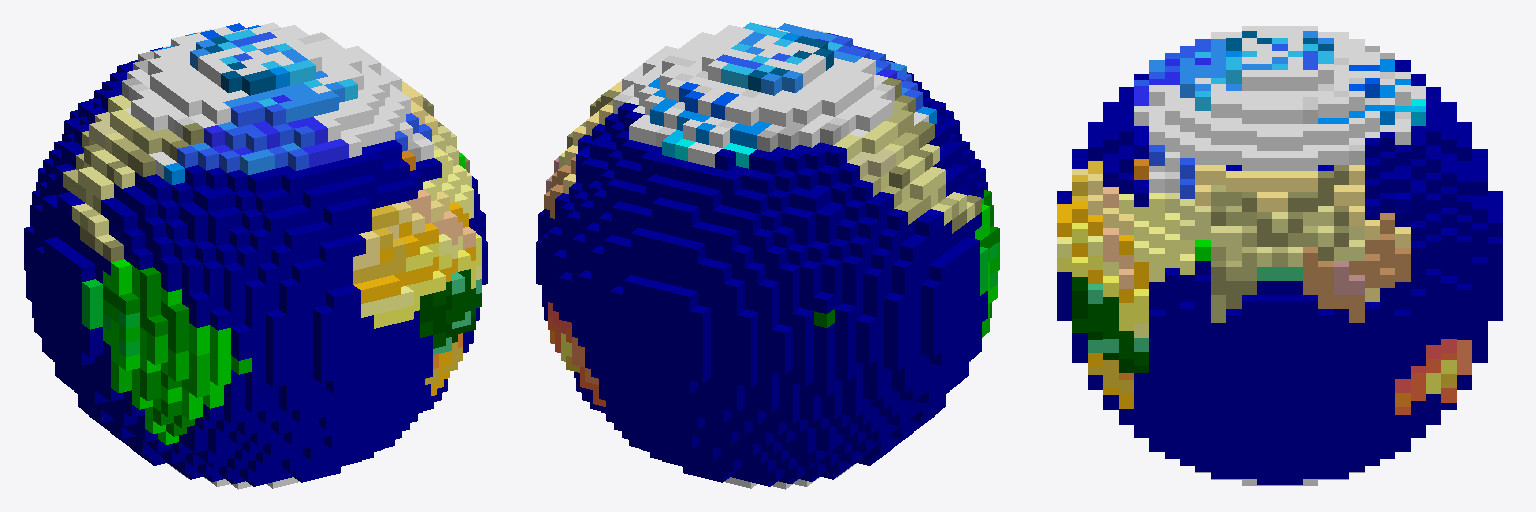
The picture shows the model from 3 angles: view 1: azimuth 30°, elevation 25°; view 2: azimuth 150°, elevation 25°; view 3: azimuth 270°, elevation 25°; orthographic projection.
Visible parts, largest first — view 1: Earth; view 2: Earth; view 3: Earth.
Part boxes in pixels (bbox=[...]): Earth: bbox=[24, 22, 487, 489]; Earth: bbox=[536, 22, 999, 489]; Earth: bbox=[1057, 26, 1502, 485].
Bounding box in the file's own units: 29 × 29 × 29.
1 materials, 1 textured.